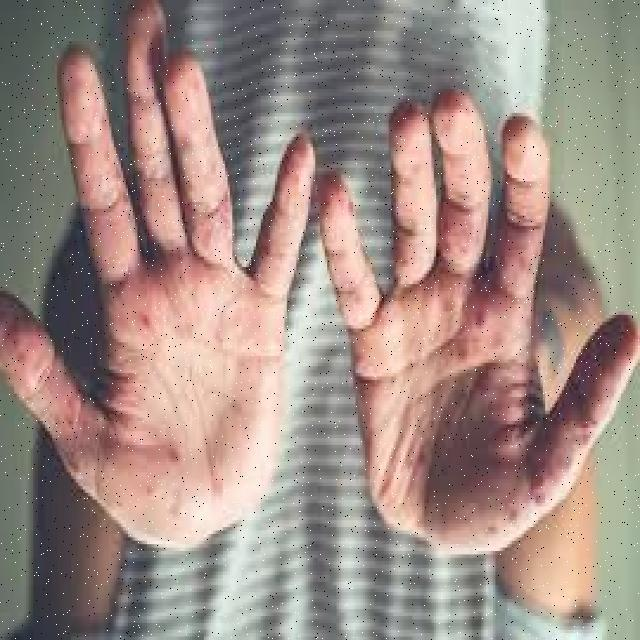no_apron: (1, 1, 314, 554), (320, 94, 640, 557)
